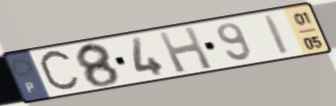4: (131, 34, 167, 78)
8: (73, 41, 124, 89)
9: (215, 22, 254, 63)
C: (36, 47, 83, 95)
H: (156, 24, 217, 75)
I: (261, 12, 293, 57)
